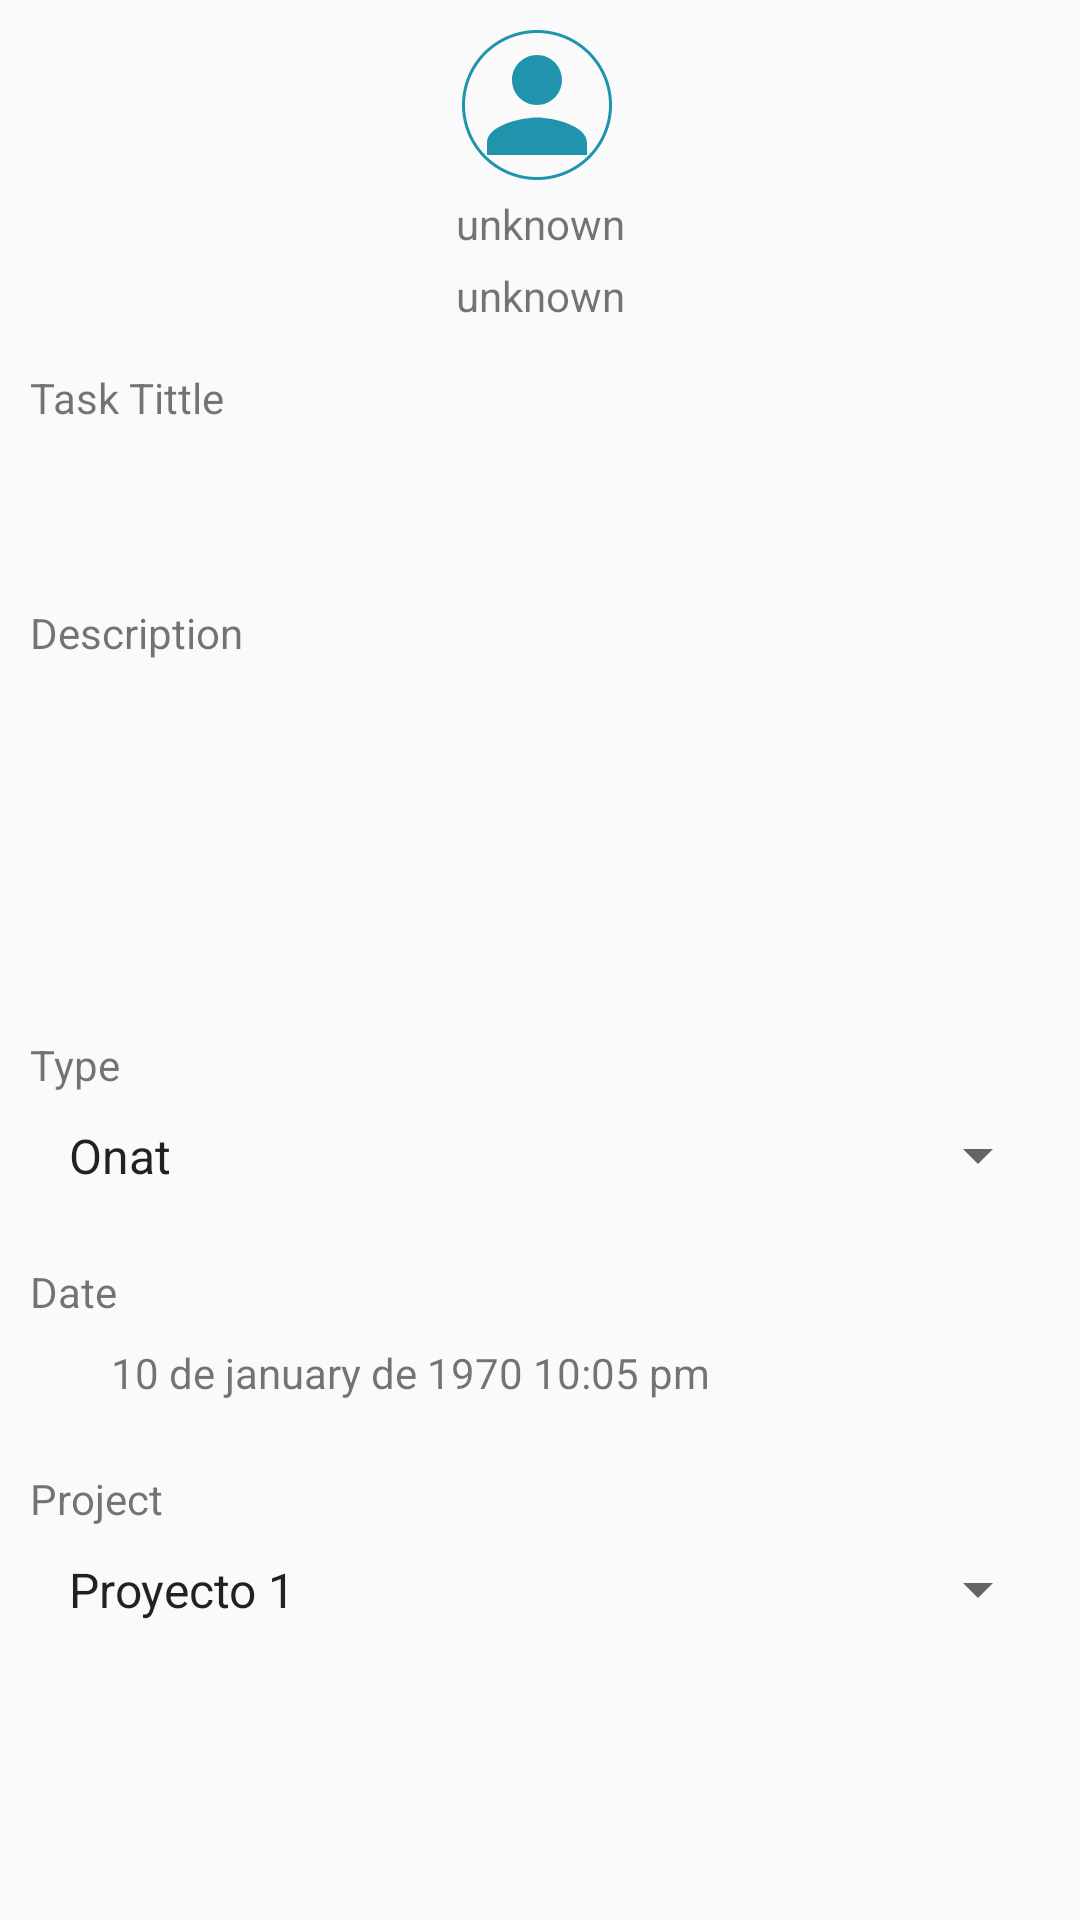

Icon click points for this 1080 × 1920 phone screenshot, format [x,y]:
person: [537,105]
